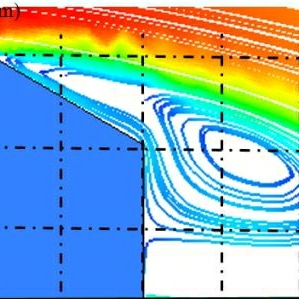vortox: (153, 98, 299, 211)
